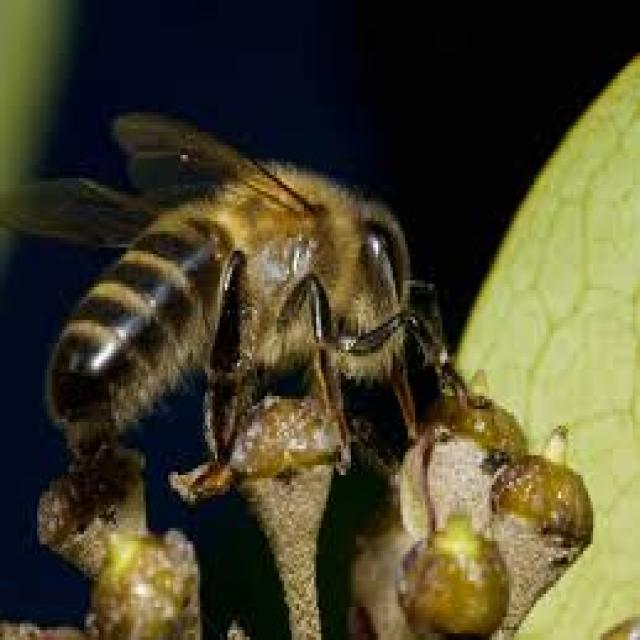Bees: (3, 113, 491, 477)
